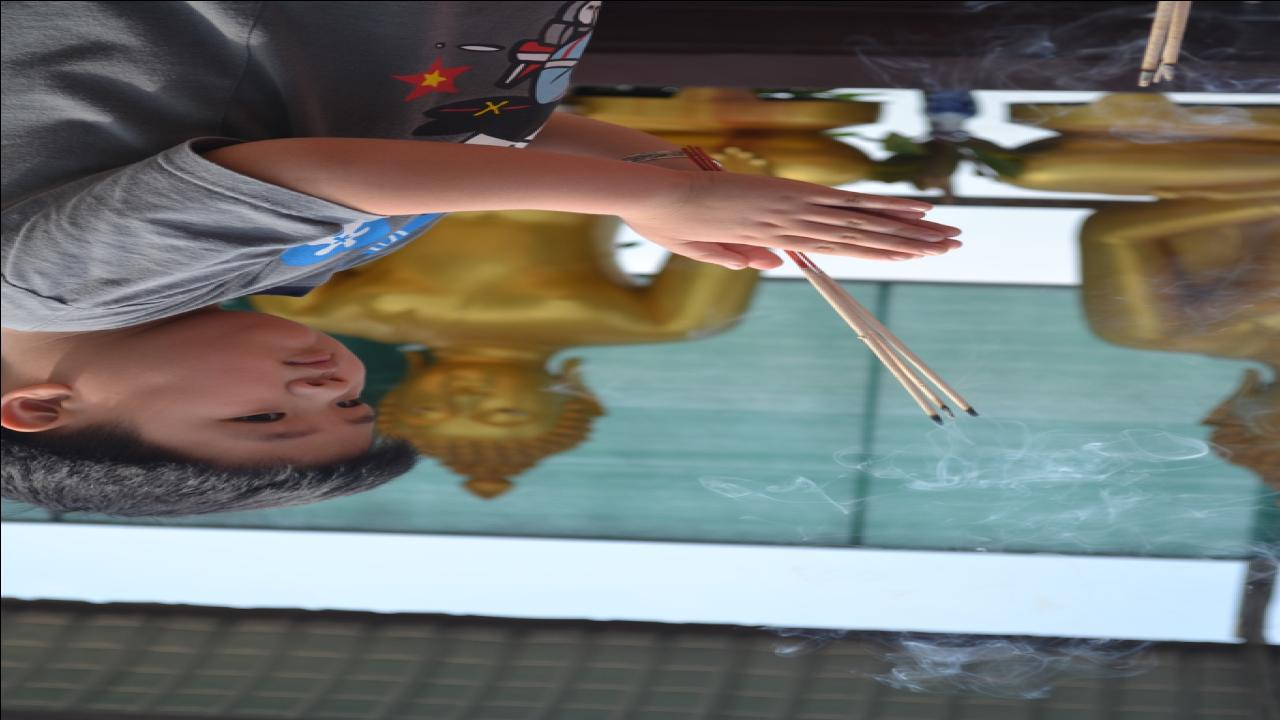chopstick: (782, 245, 980, 425), (1138, 0, 1191, 90)
